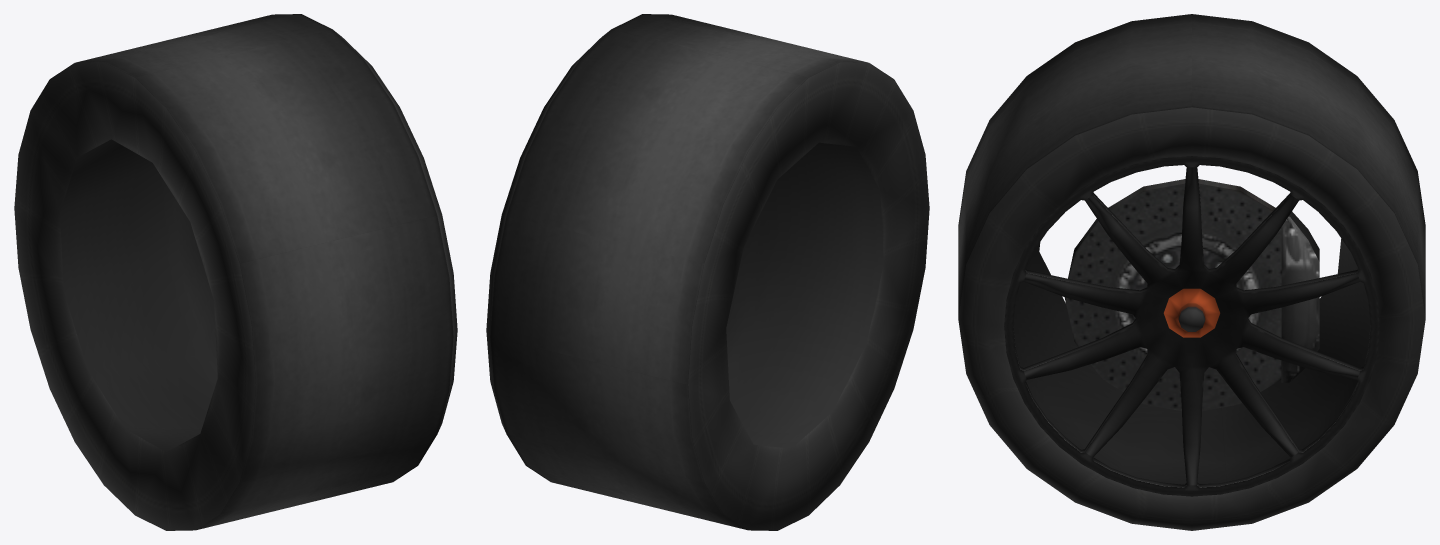
The model's file is WP02_wheelpack.glb.
The picture shows the model from 3 angles, left to right: view 1: azimuth 30°, elevation 25°; view 2: azimuth 150°, elevation 25°; view 3: azimuth 270°, elevation 25°; orthographic projection. The views are drawn at different scales.
Visible parts, largest first — view 1: MOD_ND_WP02_tyre; view 2: MOD_ND_WP02_tyre; view 3: MOD_ND_WP02_tyre, MOD_ND_WP02_rim, MOD_ND_WP02_brakes.
Boxes of the visible parts, bbox=[...] form: MOD_ND_WP02_tyre: bbox=[14, 14, 457, 530]; MOD_ND_WP02_tyre: bbox=[486, 14, 929, 530]; MOD_ND_WP02_tyre: bbox=[958, 14, 1425, 530]; MOD_ND_WP02_rim: bbox=[1004, 156, 1379, 496]; MOD_ND_WP02_brakes: bbox=[1064, 179, 1319, 411].
Size of the model in its own units: 0.3264 by 0.6414 by 0.6413.
Materials: 2 (2 with a texture image).
